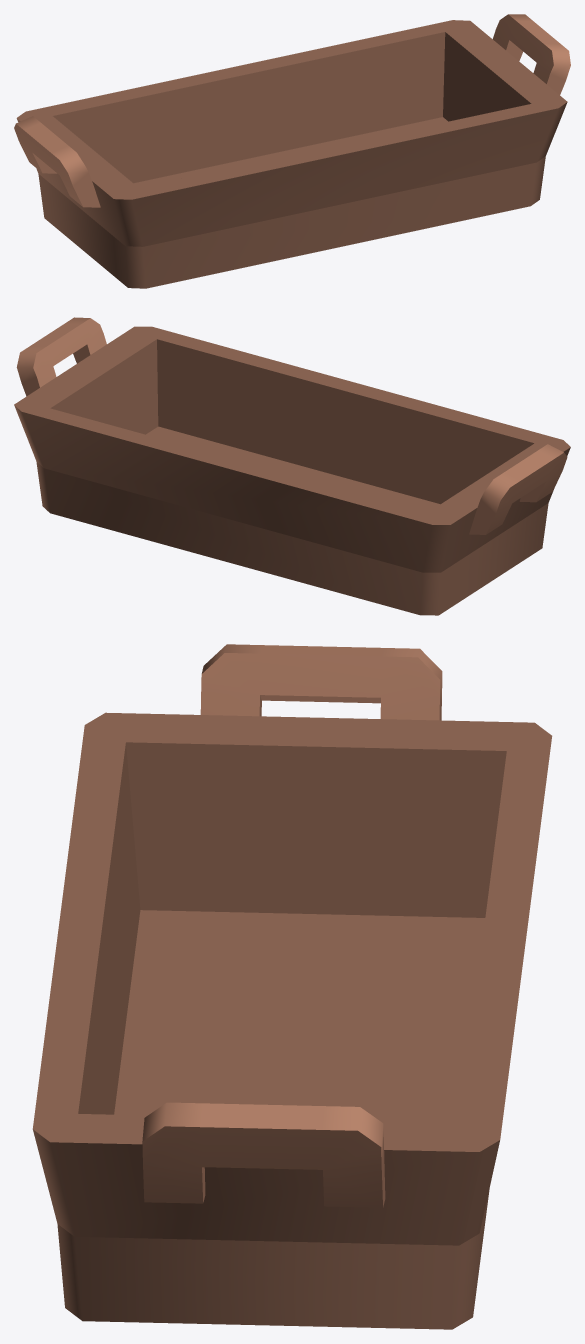
File: Gimbap_basket.fbx
The picture shows the model from 3 angles, top to bottom: view 1: azimuth 30°, elevation 25°; view 2: azimuth 150°, elevation 25°; view 3: azimuth 270°, elevation 25°; orthographic projection. The views are drawn at different scales.
Visible parts, largest first — view 1: Basket_Gimbap; view 2: Basket_Gimbap; view 3: Basket_Gimbap.
Part boxes in pixels (box(x1,y1,x2,y2)): Basket_Gimbap: box(14, 14, 570, 288); Basket_Gimbap: box(14, 317, 570, 615); Basket_Gimbap: box(32, 644, 552, 1329).
Size of the model in its own units: 43.34 by 10.43 by 19.56.
